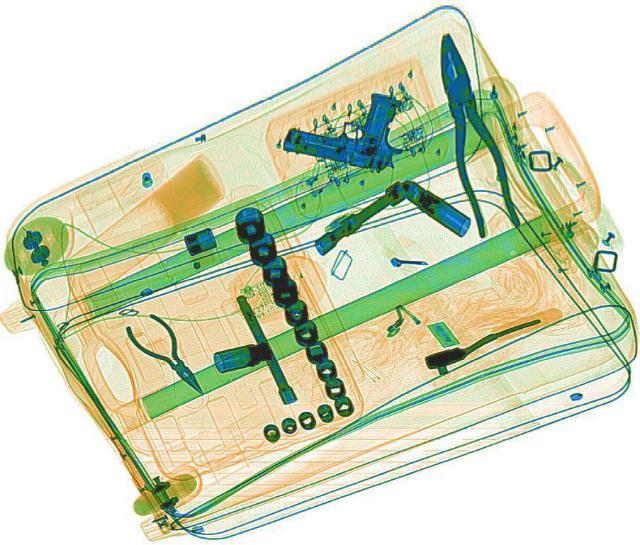Gun: (277, 73, 419, 175)
Pliers: (419, 28, 523, 237), (120, 308, 220, 402)
